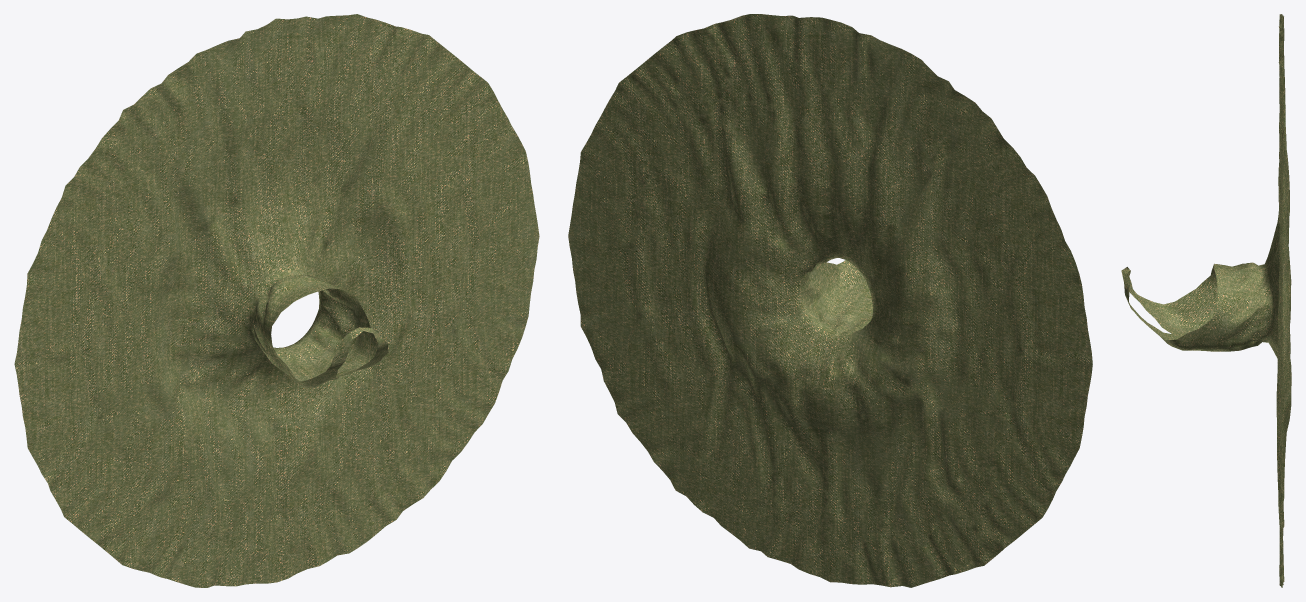
The model's file is dress-victor.obj.
The picture shows the model from 3 angles, left to right: view 1: azimuth 30°, elevation 25°; view 2: azimuth 150°, elevation 25°; view 3: azimuth 270°, elevation 25°; orthographic projection. The views are drawn at different scales.
Bounding box in the file's own units: 1.38 × 1.42 × 0.4142.
Materials: 1 (1 with a texture image).
